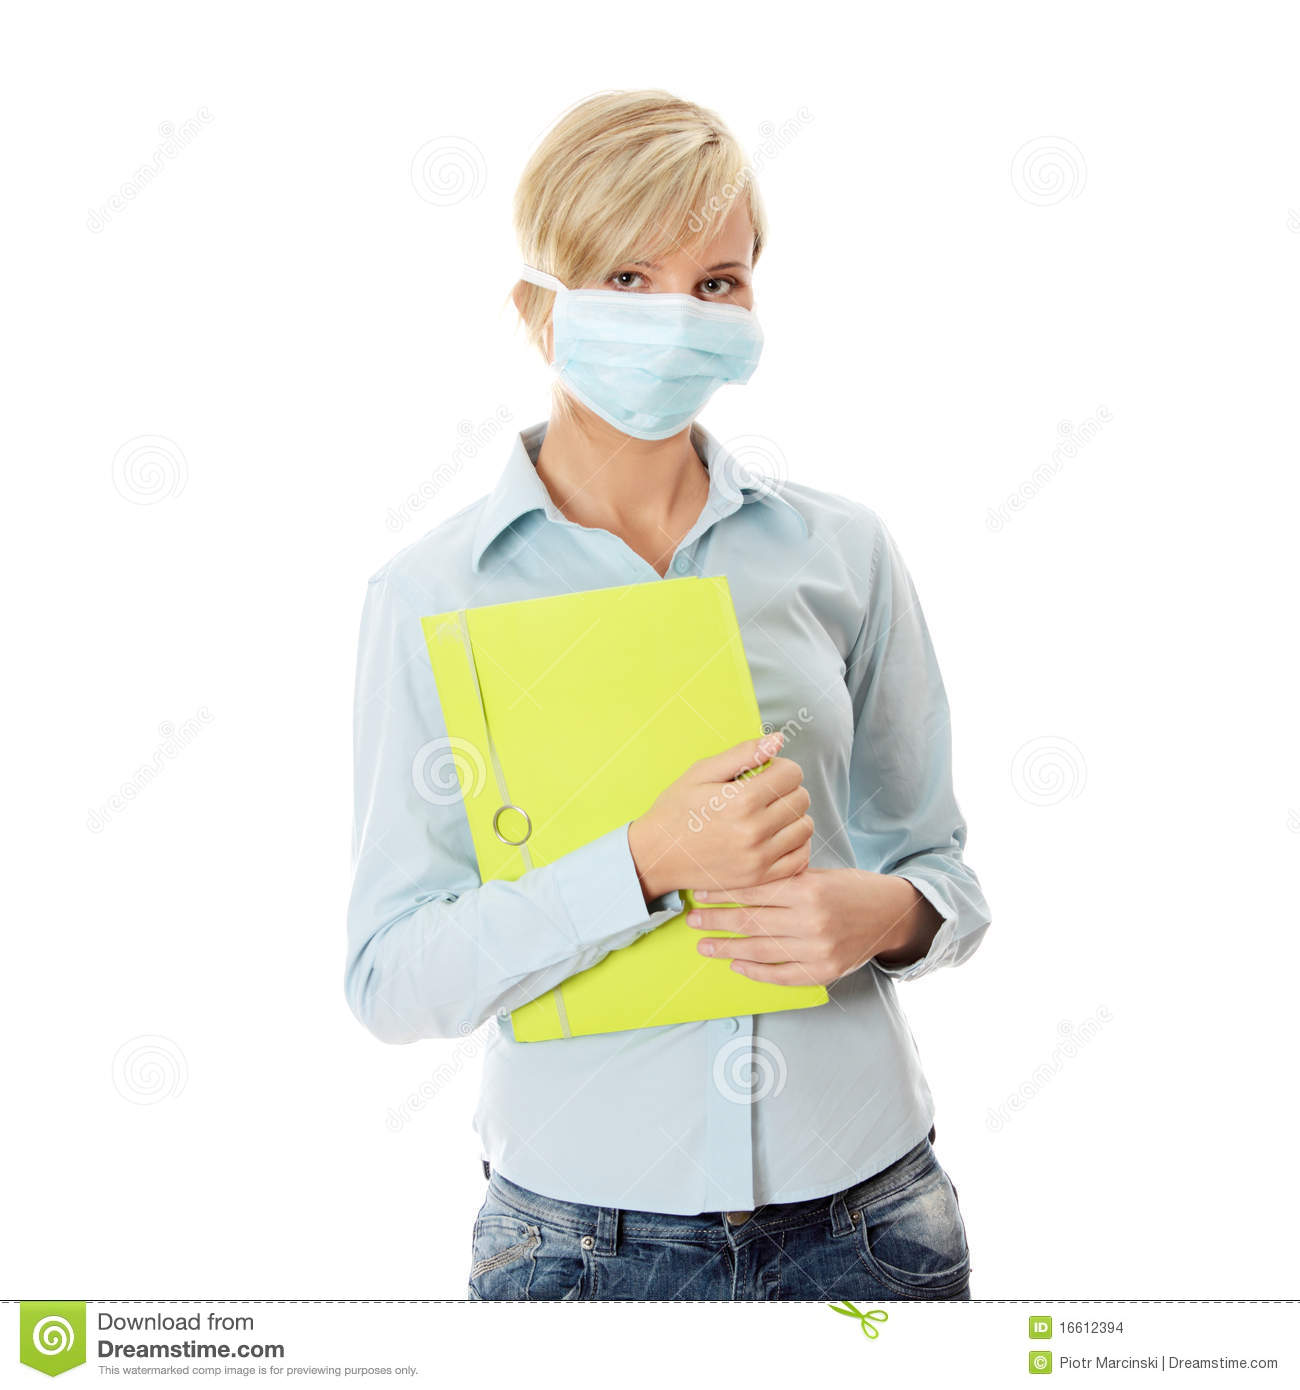mask: (549, 280, 767, 449)
